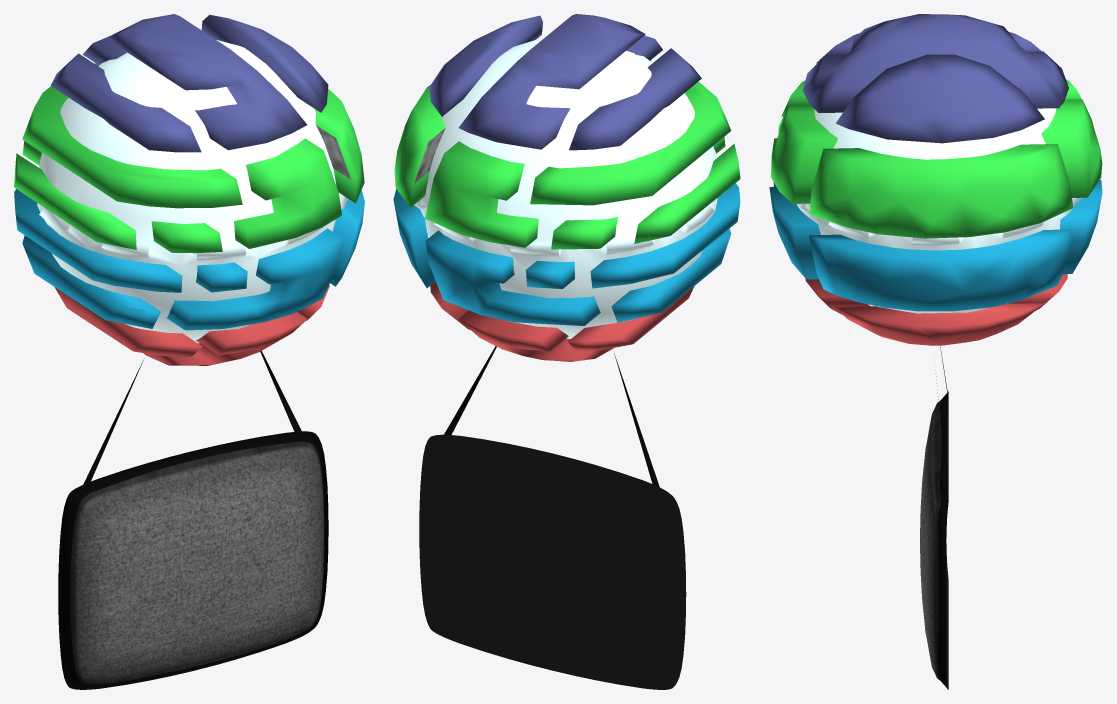
The model's file is balloon.glb.
3 renders of one model, left to right at view 1: azimuth 30°, elevation 25°; view 2: azimuth 150°, elevation 25°; view 3: azimuth 270°, elevation 25°, orthographic. The views are drawn at different scales.
Visible parts, largest first — view 1: 4; view 2: 4; view 3: 4.
Part boxes in pixels (x1,y1,x2,y2): 4: (14,14,364,689); 4: (393,14,740,689); 4: (769,14,1102,689).
Bounding box in the file's own units: 3.41 × 7.14 × 3.55.
7 materials, 1 textured.
